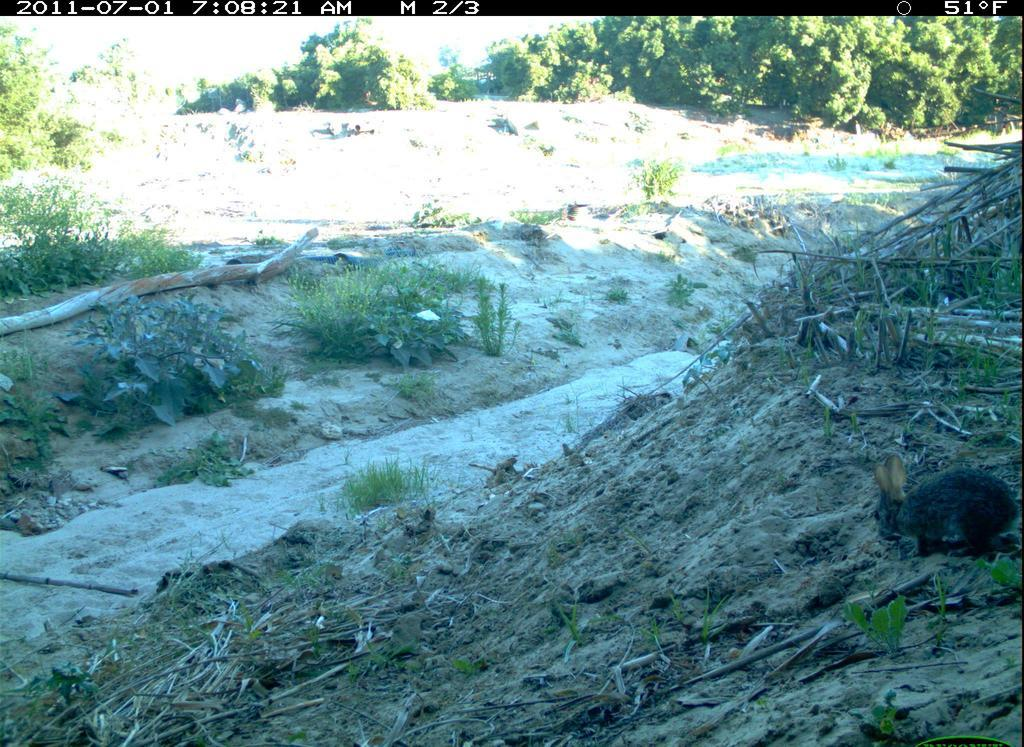rabbit: (859, 457, 1023, 566)
